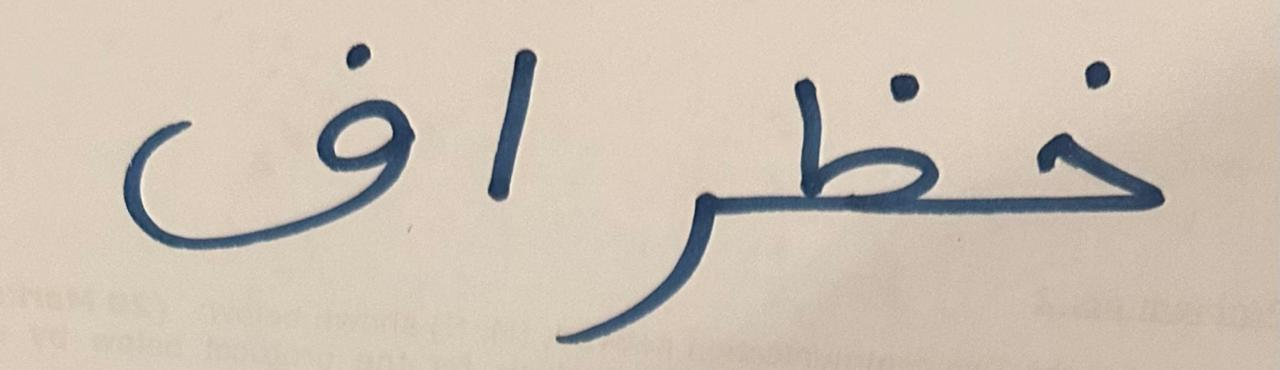alef: (463, 10, 554, 279)
feh: (85, 13, 455, 273)
lam: (978, 19, 1224, 286)
sad: (558, 71, 750, 351)
zain: (756, 4, 974, 285)
